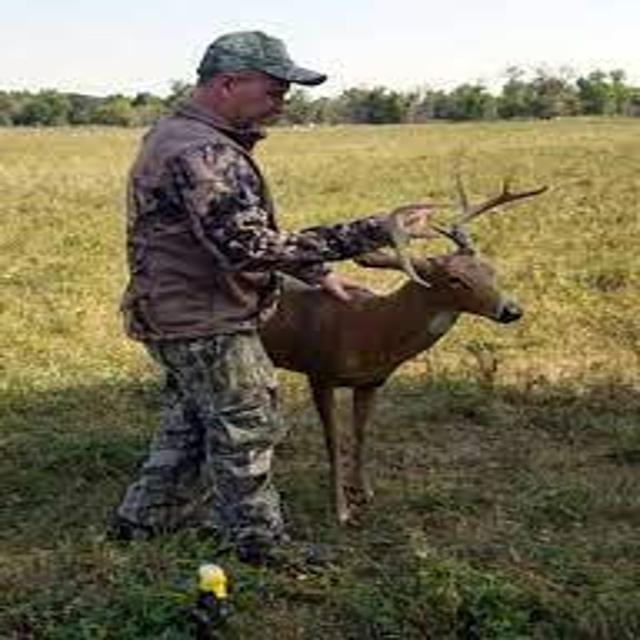Deer: (226, 165, 588, 549)
